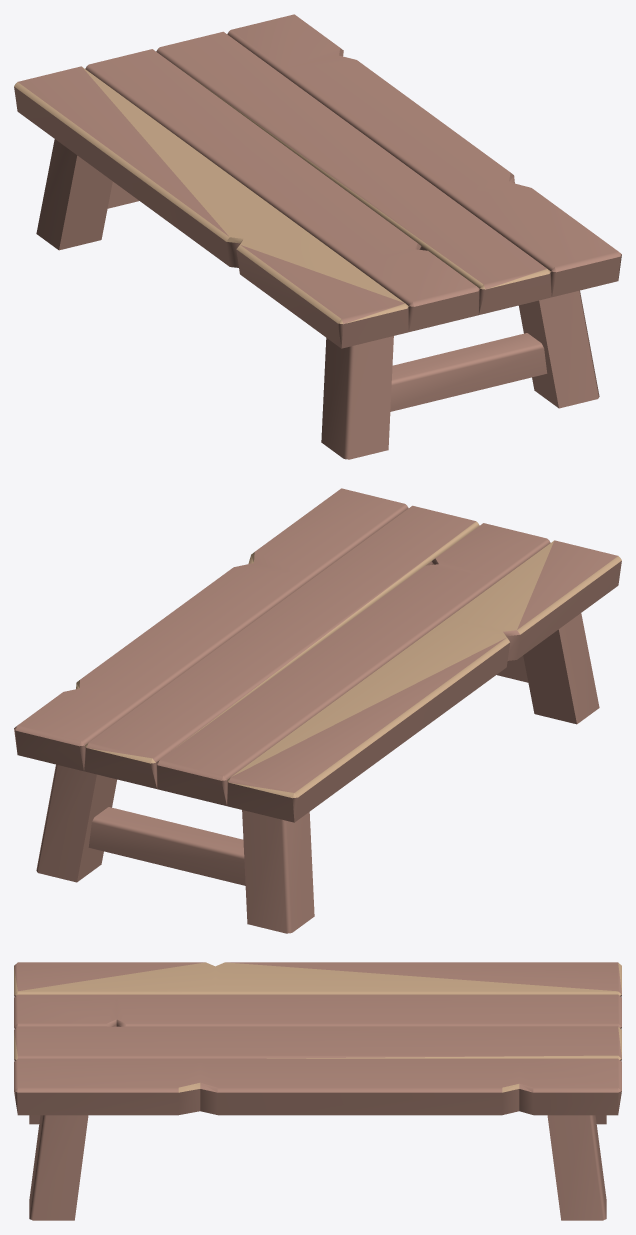
The picture shows the model from 3 angles, top to bottom: view 1: azimuth 30°, elevation 25°; view 2: azimuth 150°, elevation 25°; view 3: azimuth 270°, elevation 25°; orthographic projection. The views are drawn at different scales.
Visible parts, largest first — view 1: model; view 2: model; view 3: model.
Part boxes in pixels (x1,y1,x2,y2): model: (14,14,621,459); model: (14,488,621,933); model: (14,962,621,1220).
Size of the model in its own units: 1.4 by 0.7 by 2.8.
